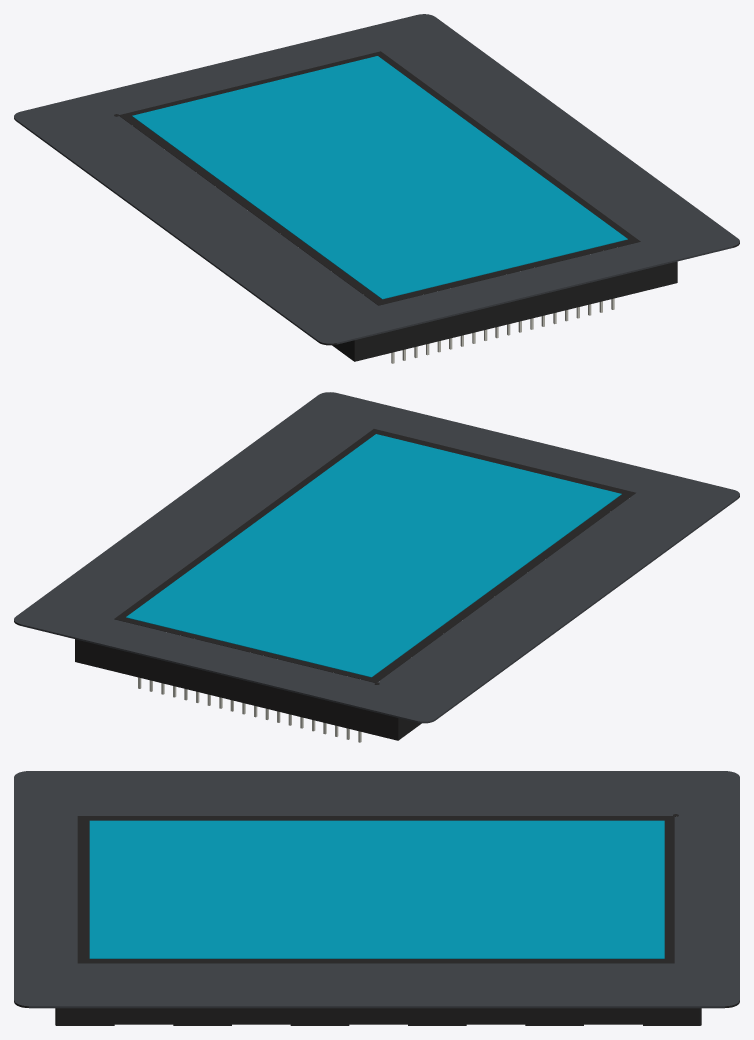
Rendered from kc-ea_ediptft43-atc.glb.
3 renders of one model, top to bottom at view 1: azimuth 30°, elevation 25°; view 2: azimuth 150°, elevation 25°; view 3: azimuth 270°, elevation 25°, orthographic. The views are drawn at different scales.
Parts seen in each view (by area): view 1: 0.08333333333333333_0.08333333333333333_0.08333333333333333_, 0_0.3333333333333333_0.5_0, 0_0_0_0, 0.6666666666666666_0.6666666666666666_0.5833333333333334_0.8; view 2: 0.08333333333333333_0.08333333333333333_0.08333333333333333_, 0_0.3333333333333333_0.5_0, 0_0_0_0, 0.6666666666666666_0.6666666666666666_0.5833333333333334_0.8; view 3: 0.08333333333333333_0.08333333333333333_0.08333333333333333_, 0_0.3333333333333333_0.5_0, 0_0_0_0.
Boxes of the visible parts, bbox=[...] form: 0.08333333333333333_0.08333333333333333_0.08333333333333333_: bbox=[14, 14, 739, 344]; 0_0.3333333333333333_0.5_0: bbox=[132, 56, 627, 299]; 0_0_0_0: bbox=[114, 51, 739, 361]; 0.6666666666666666_0.6666666666666666_0.5833333333333334_0.8: bbox=[391, 298, 614, 363]; 0.08333333333333333_0.08333333333333333_0.08333333333333333_: bbox=[14, 392, 739, 723]; 0_0.3333333333333333_0.5_0: bbox=[126, 434, 621, 677]; 0_0_0_0: bbox=[14, 429, 739, 740]; 0.6666666666666666_0.6666666666666666_0.5833333333333334_0.8: bbox=[138, 677, 361, 742]; 0.08333333333333333_0.08333333333333333_0.08333333333333333_: bbox=[14, 771, 739, 1008]; 0_0.3333333333333333_0.5_0: bbox=[89, 820, 664, 958]; 0_0_0_0: bbox=[14, 814, 739, 1025].
Size of the model in its own units: 9.2 by 1.37 by 12.
